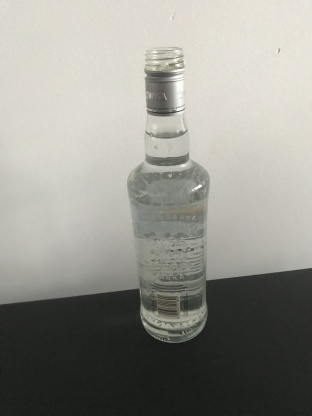nakretka: (142, 46, 187, 116)
